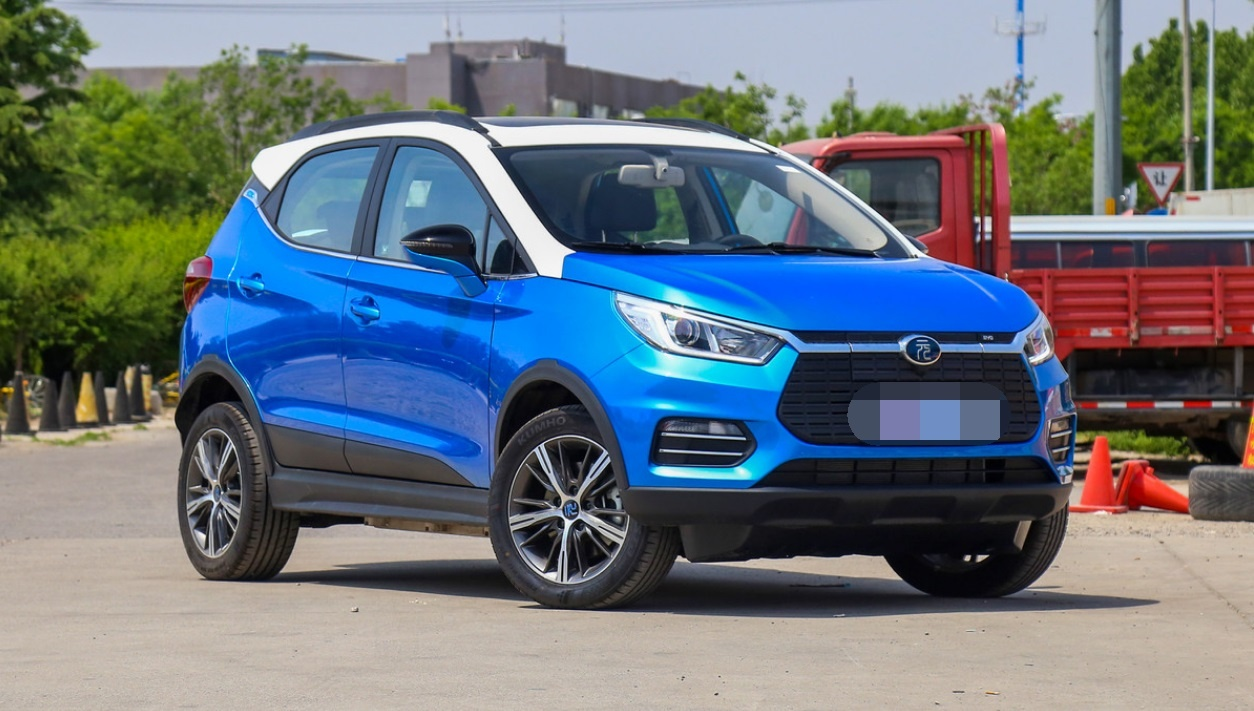SUV: (173, 88, 1087, 644)
